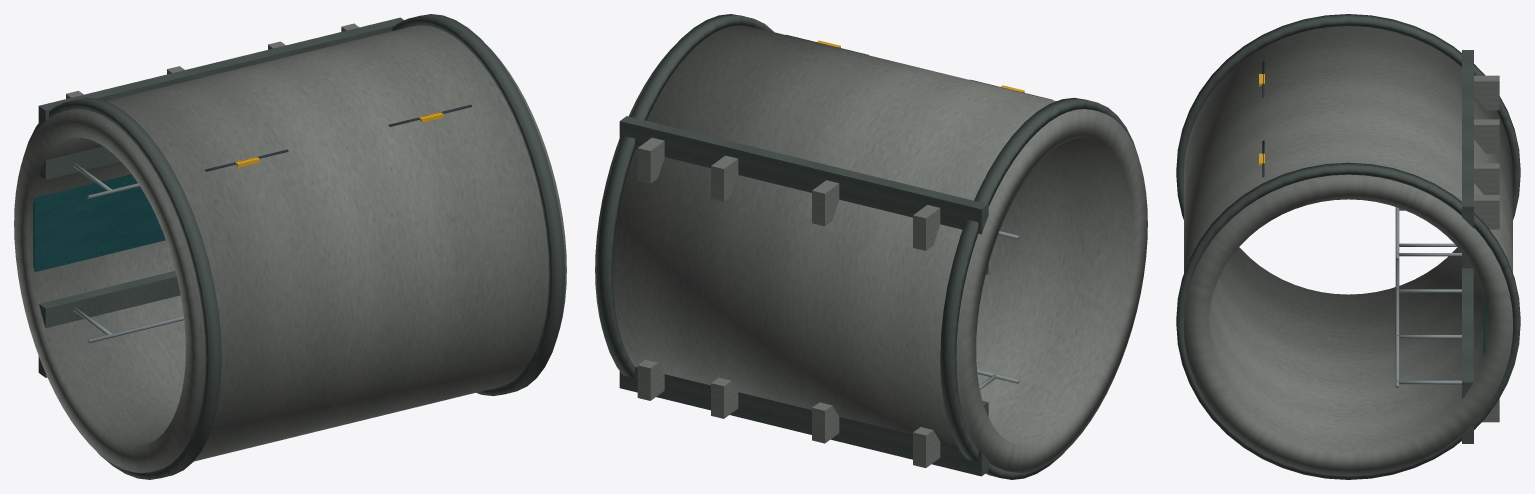
Rendered from PZ_WWT_01_Tunnel_Straight_4m.glb.
The picture shows the model from 3 angles, left to right: view 1: azimuth 30°, elevation 25°; view 2: azimuth 150°, elevation 25°; view 3: azimuth 270°, elevation 25°; orthographic projection. The views are drawn at different scales.
Visible parts, largest first — view 1: TUN01_Concrete_Sewer_Liner_4m, TUN01_Drain_WaterSurface, TUN01_Collar_0.13, TUN01_Collar_3.87, TUN01_Walkway_+1, TUN01_Walkway_-1; view 2: TUN01_Concrete_Sewer_Liner_4m, TUN01_Walkway_+1, TUN01_Collar_0.13, TUN01_Collar_3.87, TUN01_Walkway_-1, TUN01_WalkwaySupport_+1_3.55, TUN01_WalkwaySupport_+1_0.55, TUN01_WalkwaySupport_+1_2.75, TUN01_WalkwaySupport_+1_1.65, TUN01_WalkwaySupport_-1_3.55, TUN01_WalkwaySupport_-1_0.55, TUN01_WalkwaySupport_-1_1.65 (+1 smaller); view 3: TUN01_Concrete_Sewer_Liner_4m, TUN01_Collar_3.87, TUN01_Collar_0.13, TUN01_Walkway_+1, TUN01_Walkway_-1, TUN01_WalkwaySupport_+1_0.55, TUN01_WalkwaySupport_+1_1.65, TUN01_WalkwaySupport_+1_2.75, TUN01_WalkwaySupport_+1_3.55, TUN01_Handrail_-1.
Part boxes in pixels (x1,y1,x2,y2): TUN01_Concrete_Sewer_Liner_4m: [14, 25, 566, 472]; TUN01_Drain_WaterSurface: [33, 174, 165, 272]; TUN01_Collar_0.13: [23, 97, 221, 479]; TUN01_Collar_3.87: [392, 14, 565, 396]; TUN01_Walkway_+1: [38, 17, 403, 179]; TUN01_Walkway_-1: [38, 271, 180, 377]; TUN01_Concrete_Sewer_Liner_4m: [595, 25, 1147, 472]; TUN01_Walkway_+1: [619, 116, 988, 275]; TUN01_Collar_0.13: [940, 97, 1138, 479]; TUN01_Collar_3.87: [596, 14, 773, 377]; TUN01_Walkway_-1: [619, 367, 988, 476]; TUN01_WalkwaySupport_+1_3.55: [637, 137, 664, 183]; TUN01_WalkwaySupport_+1_0.55: [913, 205, 940, 250]; TUN01_WalkwaySupport_+1_2.75: [711, 155, 738, 201]; TUN01_WalkwaySupport_+1_1.65: [812, 180, 839, 226]; TUN01_WalkwaySupport_-1_3.55: [637, 359, 664, 400]; TUN01_WalkwaySupport_-1_0.55: [913, 427, 940, 467]; TUN01_WalkwaySupport_-1_1.65: [812, 402, 839, 443]; TUN01_Concrete_Sewer_Liner_4m: [1184, 26, 1512, 475]; TUN01_Collar_3.87: [1176, 162, 1520, 479]; TUN01_Collar_0.13: [1176, 14, 1520, 219]; TUN01_Walkway_+1: [1462, 50, 1473, 268]; TUN01_Walkway_-1: [1462, 268, 1473, 443]; TUN01_WalkwaySupport_+1_0.55: [1474, 75, 1499, 110]; TUN01_WalkwaySupport_+1_1.65: [1474, 119, 1499, 153]; TUN01_WalkwaySupport_+1_2.75: [1474, 163, 1499, 194]; TUN01_WalkwaySupport_+1_3.55: [1474, 195, 1499, 229]; TUN01_Handrail_-1: [1395, 259, 1399, 387].
Bounding box in the file's own units: 4 × 3.66 × 3.66.
Materials: 1 (1 with a texture image).
